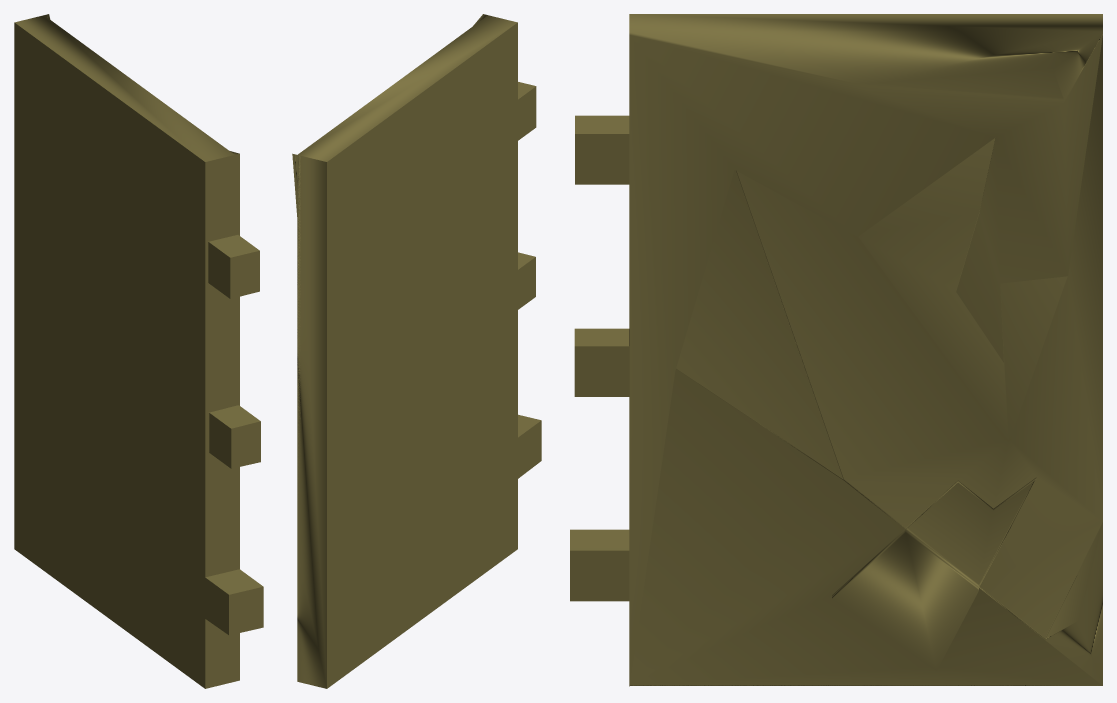
File: mage_door.fbx
The picture shows the model from 3 angles, left to right: view 1: azimuth 30°, elevation 25°; view 2: azimuth 150°, elevation 25°; view 3: azimuth 270°, elevation 25°; orthographic projection. The views are drawn at different scales.
Visible parts, largest first — view 1: Cube.001; view 2: Cube.001; view 3: Cube.001.
Part boxes in pixels (x1,y1,x2,y2): Cube.001: (14,14,263,688); Cube.001: (292,14,541,688); Cube.001: (570,14,1102,686).
Bounding box in the file's own units: 28.54 × 414 × 306.
